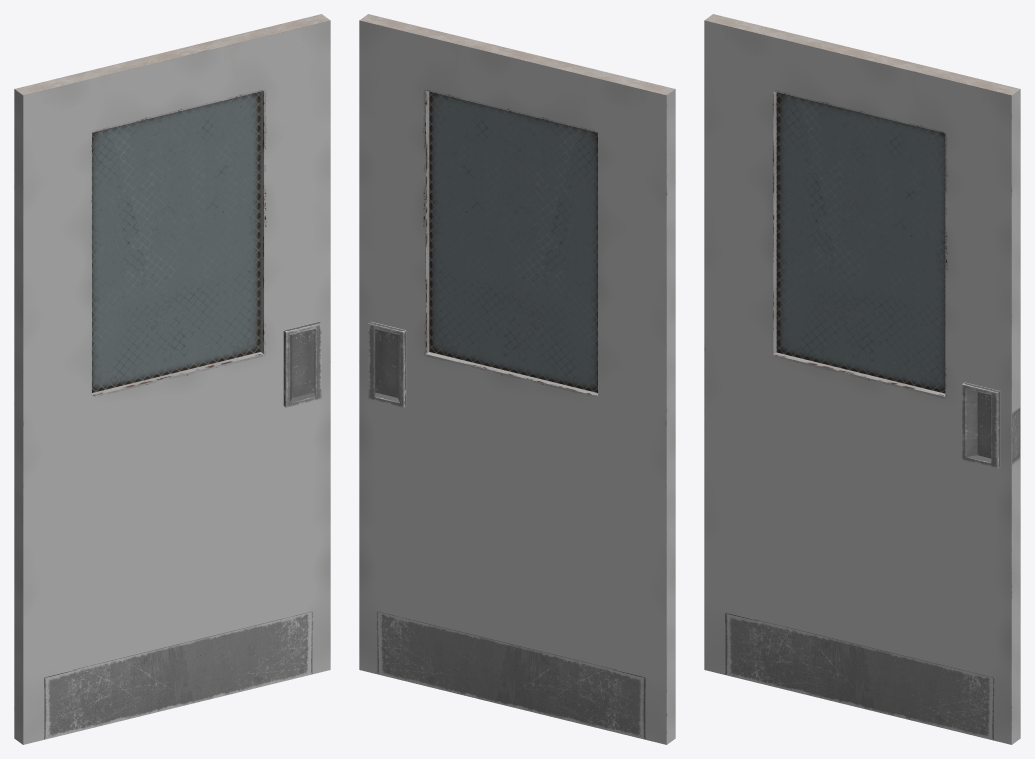
Rendered from SM_Door_01.fbx.
3 views of the same model, side by side, from view 1: azimuth 30°, elevation 25°; view 2: azimuth 150°, elevation 25°; view 3: azimuth 330°, elevation 25° (orthographic).
Parts seen in each view (by area): view 1: SM_Door_01; view 2: SM_Door_01; view 3: SM_Door_01.
Part boxes in pixels (x1,y1,x2,y2): SM_Door_01: [14, 14, 330, 744]; SM_Door_01: [359, 14, 675, 744]; SM_Door_01: [704, 14, 1020, 744].
Bounding box in the file's own units: 114 × 9.24 × 231.
2 materials, 2 textured.
